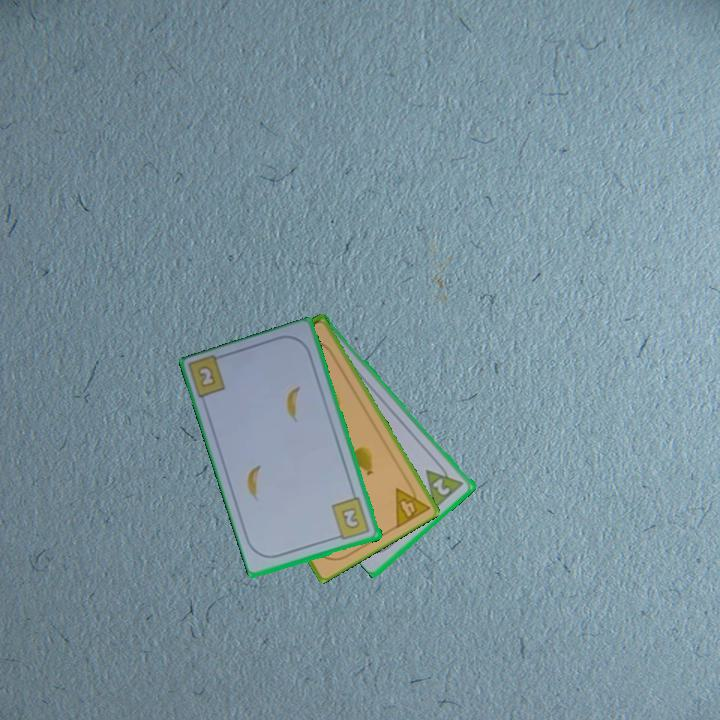2b: (328, 494, 373, 543), (196, 364, 217, 388)
2p: (430, 475, 454, 498)
4p: (392, 476, 432, 531)
